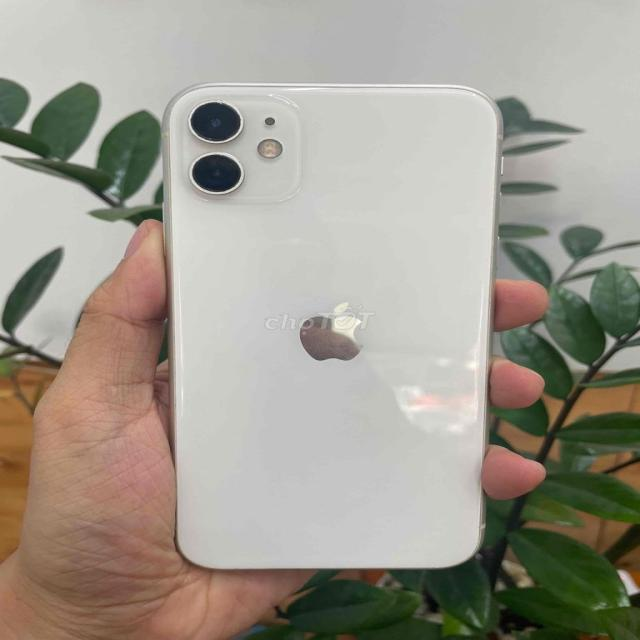gen_11: (162, 82, 501, 569)
